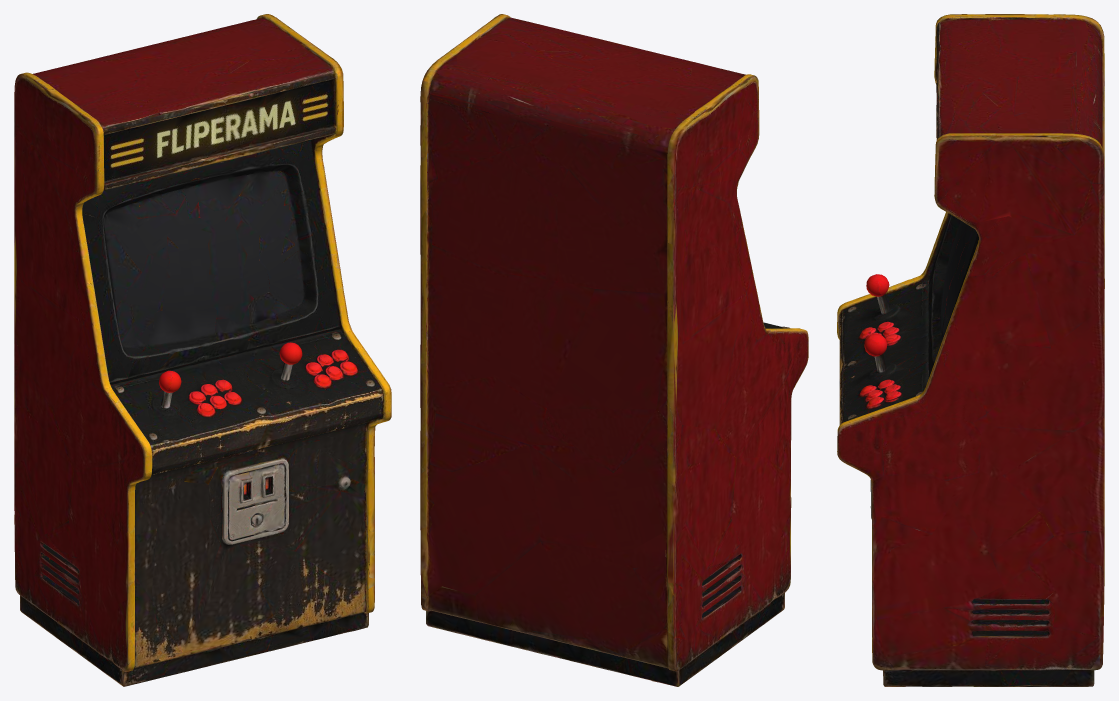
File: arcade.glb
The picture shows the model from 3 angles, left to right: view 1: azimuth 30°, elevation 25°; view 2: azimuth 150°, elevation 25°; view 3: azimuth 270°, elevation 25°; orthographic projection. The views are drawn at different scales.
Parts seen in each view (by area): view 1: arcade; view 2: arcade; view 3: arcade.
Boxes of the visible parts, bbox=[...] form: arcade: bbox=[14, 14, 391, 686]; arcade: bbox=[420, 14, 808, 686]; arcade: bbox=[837, 14, 1104, 686].
Bounding box in the file's own units: 0.8368 × 1.75 × 0.7697.
Materials: 1 (1 with a texture image).
